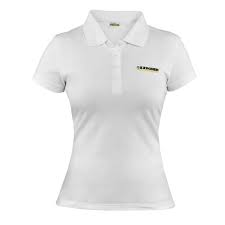C_polo shirt: (26, 13, 202, 214)
